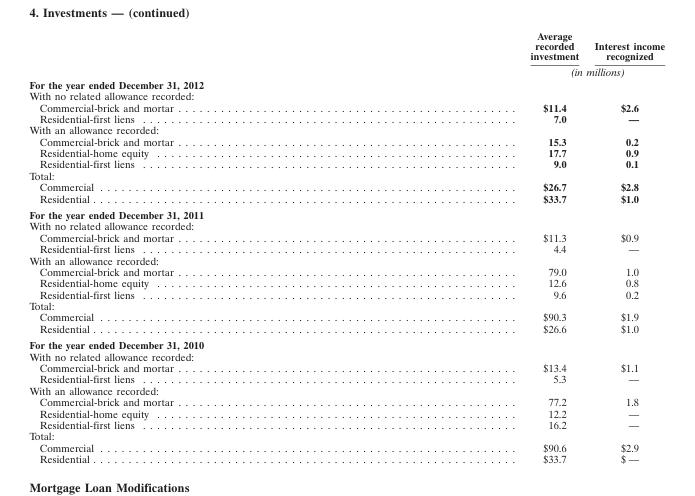table: (28, 29, 664, 464)
table column: (28, 29, 351, 464), (351, 29, 586, 464), (586, 29, 664, 464)
table column header: (28, 29, 664, 77)
table projected row header: (28, 206, 664, 220), (28, 336, 664, 350), (28, 77, 664, 89), (28, 89, 664, 101), (28, 299, 664, 311), (28, 429, 664, 441), (28, 124, 664, 135), (28, 169, 664, 180), (28, 220, 664, 231), (28, 254, 664, 265), (28, 350, 664, 361), (28, 384, 664, 395)
table row: (28, 29, 664, 63), (28, 63, 664, 77), (28, 192, 664, 206), (28, 206, 664, 220), (28, 322, 664, 336), (28, 336, 664, 350), (28, 77, 664, 89), (28, 89, 664, 101), (28, 112, 664, 124), (28, 146, 664, 158), (28, 180, 664, 192), (28, 242, 664, 254), (28, 276, 664, 288), (28, 299, 664, 311), (28, 361, 664, 373), (28, 395, 664, 407), (28, 429, 664, 441), (28, 452, 664, 464), (28, 101, 664, 112), (28, 124, 664, 135), (28, 135, 664, 146), (28, 158, 664, 169), (28, 169, 664, 180), (28, 220, 664, 231), (28, 231, 664, 242), (28, 254, 664, 265), (28, 265, 664, 276), (28, 288, 664, 299), (28, 311, 664, 322), (28, 350, 664, 361), (28, 373, 664, 384), (28, 384, 664, 395), (28, 407, 664, 418), (28, 418, 664, 429), (28, 441, 664, 452)
table spanning cell: (351, 63, 664, 77)
